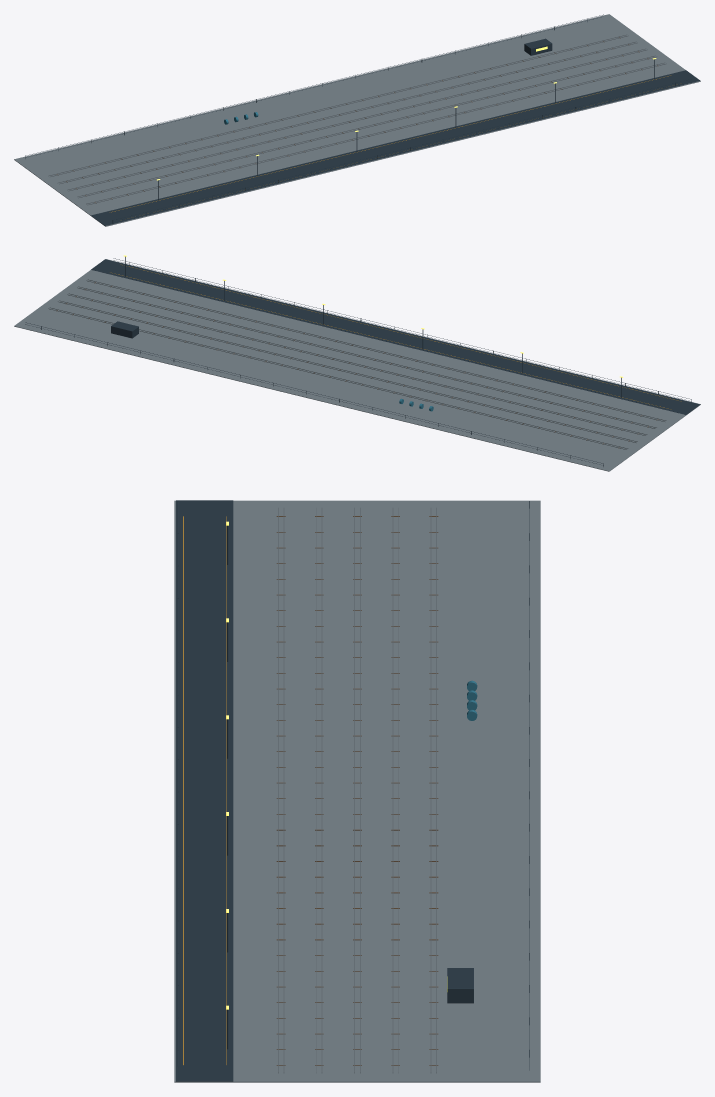
Rendered from yard-core-low.glb.
3 views of the same model, one above another, from view 1: azimuth 30°, elevation 25°; view 2: azimuth 150°, elevation 25°; view 3: azimuth 270°, elevation 25° (orthographic). The views are drawn at different scales.
Visible parts, largest first — view 1: concrete_apron, service_road, rail.003, rail.004, rail.007, rail.008, rail.009, rail.002, rail.006, rail.005, rail, rail.001 (+4 smaller); view 2: concrete_apron, service_road, rail.001, rail.003, rail.004, rail.005, rail.002, rail.006, rail, rail.007, rail.008, rail.009 (+5 smaller); view 3: concrete_apron, service_road, rail.001, rail.003, rail.006, rail.008, fence_top, control_room.
Part boxes in pixels (box(x1,y1,x2,y2)): concrete_apron: box(14, 14, 700, 226); service_road: box(91, 70, 700, 225); rail.003: box(77, 55, 655, 196); rail.004: box(69, 49, 647, 190); rail.007: box(58, 41, 636, 182); rail.008: box(50, 35, 628, 176); rail.009: box(48, 34, 626, 176); rail.002: box(78, 56, 656, 198); rail.006: box(59, 42, 637, 184); rail.005: box(67, 48, 645, 190); rail: box(88, 63, 666, 204); rail.001: box(86, 62, 664, 204); concrete_apron: box(14, 259, 700, 471); service_road: box(91, 259, 700, 414); rail.001: box(86, 280, 664, 421); rail.003: box(77, 287, 655, 428); rail.004: box(68, 293, 647, 434); rail.005: box(67, 294, 645, 435); rail.002: box(78, 286, 656, 427); rail.006: box(59, 300, 637, 441); rail: box(88, 279, 666, 420); rail.007: box(58, 301, 636, 442); rail.008: box(49, 307, 628, 448); rail.009: box(48, 308, 626, 449); concrete_apron: box(174, 500, 540, 1082); service_road: box(176, 500, 233, 1081); rail.001: box(283, 508, 284, 1072); rail.003: box(321, 508, 322, 1072); rail.006: box(392, 508, 393, 1072); rail.008: box(430, 508, 431, 1072); fence_top: box(177, 502, 178, 1066); control_room: box(447, 968, 473, 1003).
Size of the model in its own units: 360 by 12.48 by 96.
